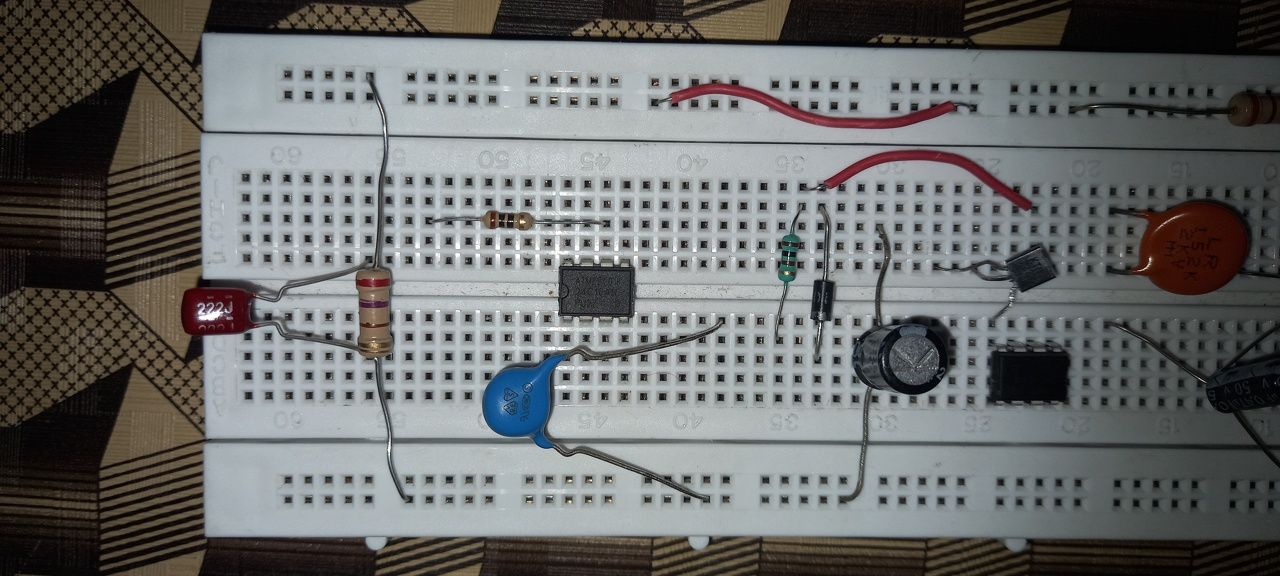capacitor: (1112, 193, 1253, 299), (477, 342, 576, 454), (849, 313, 951, 400), (176, 284, 263, 340)
resistor: (353, 261, 395, 363), (479, 209, 540, 236), (774, 232, 804, 285)
